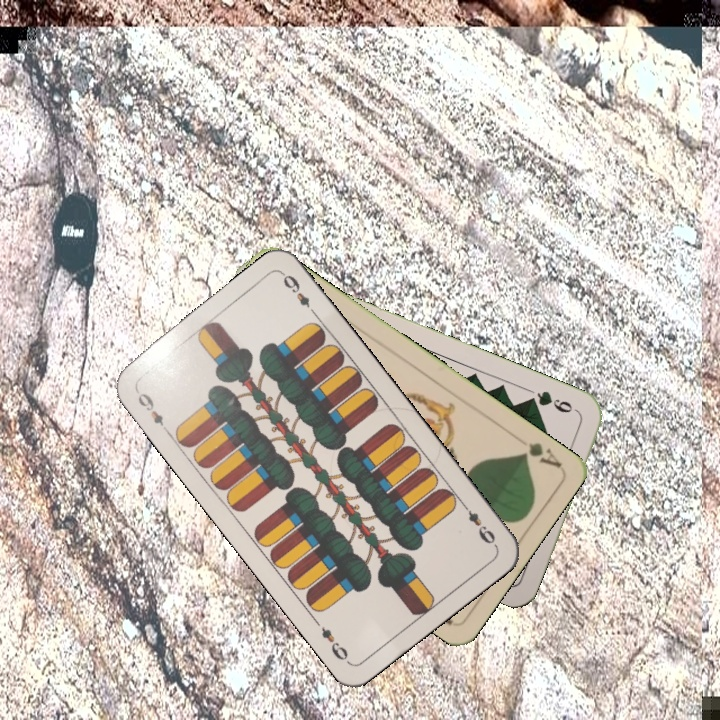E9: (458, 499, 499, 549), (133, 385, 172, 437)
G9: (523, 386, 582, 417)
GA: (517, 438, 564, 470)
